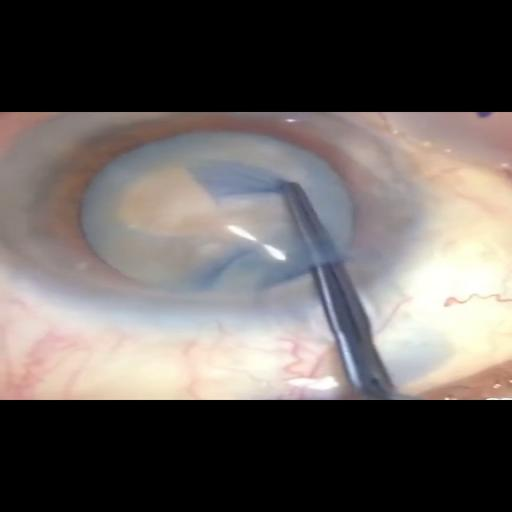catarata: (82, 131, 350, 294)
cornea: (0, 112, 439, 334)
pupil: (43, 115, 381, 311)
